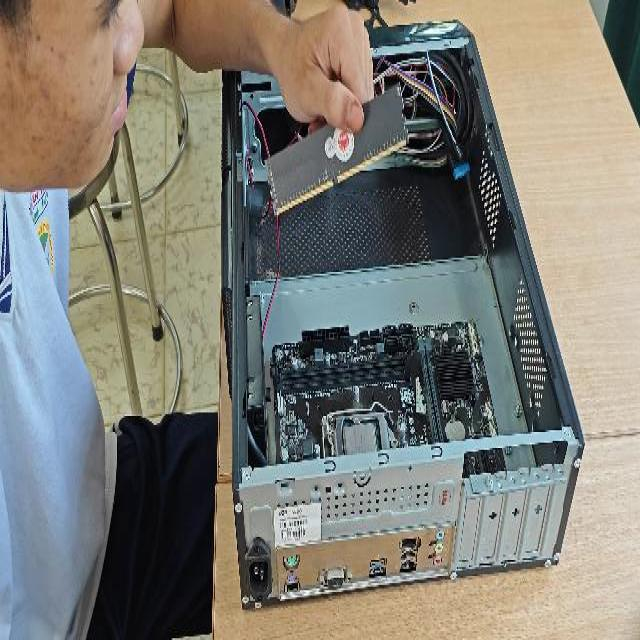CPU: (343, 420, 377, 452)
Mainboard: (274, 312, 506, 474)
RAM: (263, 82, 409, 217)
